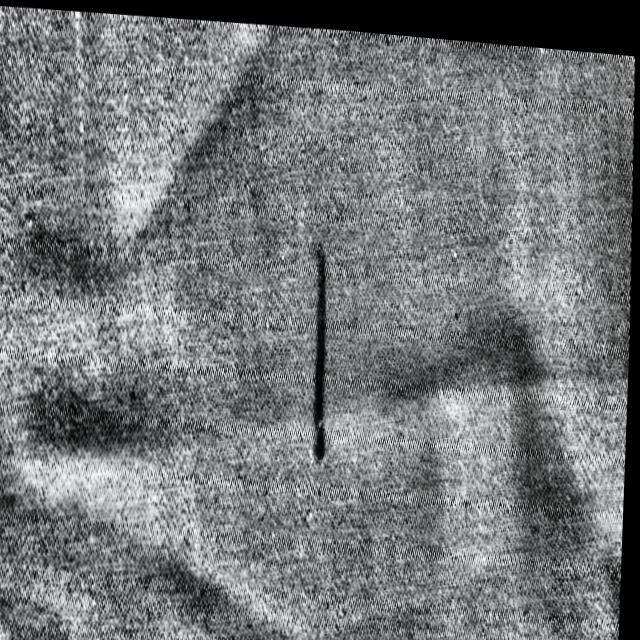Stitch: (261, 178, 376, 480)
